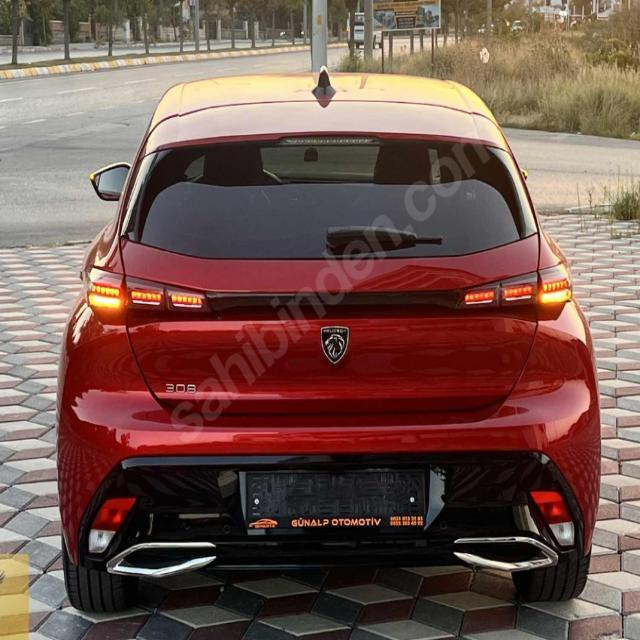pegout: (320, 321, 352, 367)
